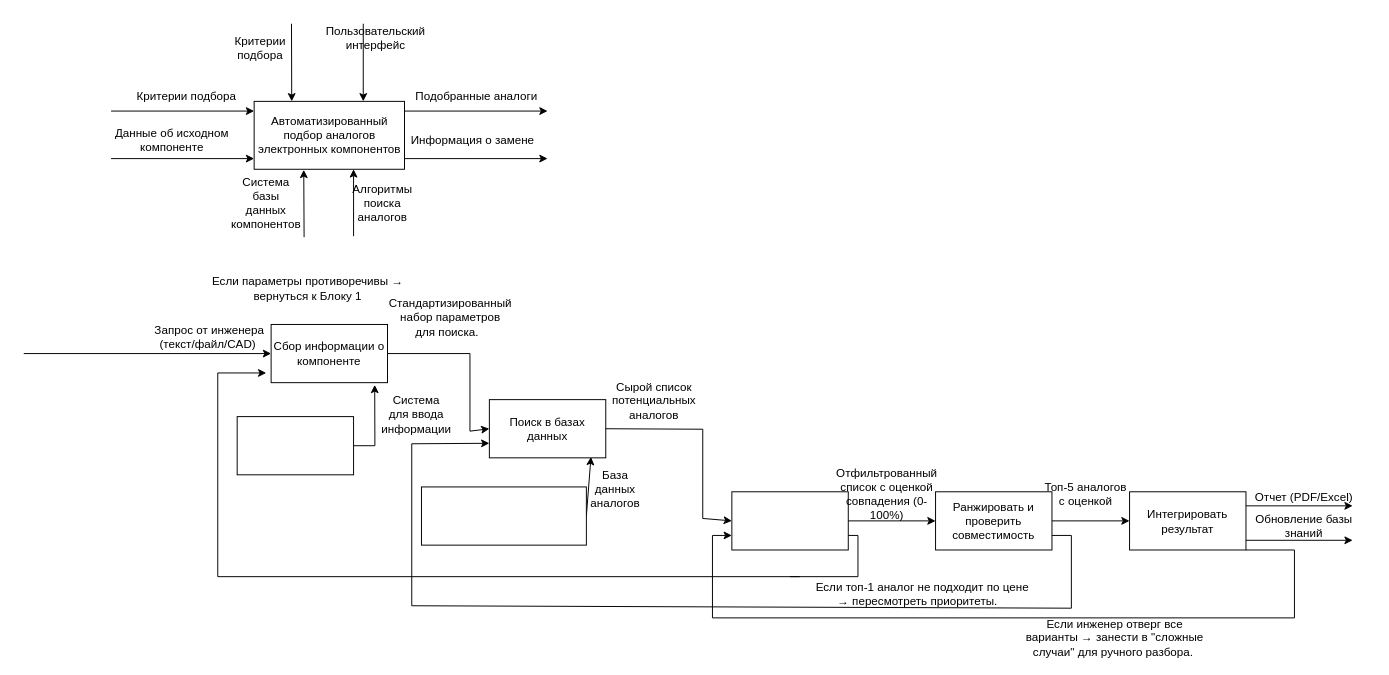
The diagram is 1389 pixels wide and 675 high, and some of its shapes have lost their labels. Each missing label, with the centre of its shape:
"Интерфейс ввода данных" belongs at (295,445).
"Система для хранения информации обо всех возможных аналогах." belongs at (503,515).
"Сравнить характеристики" belongs at (789,520).
